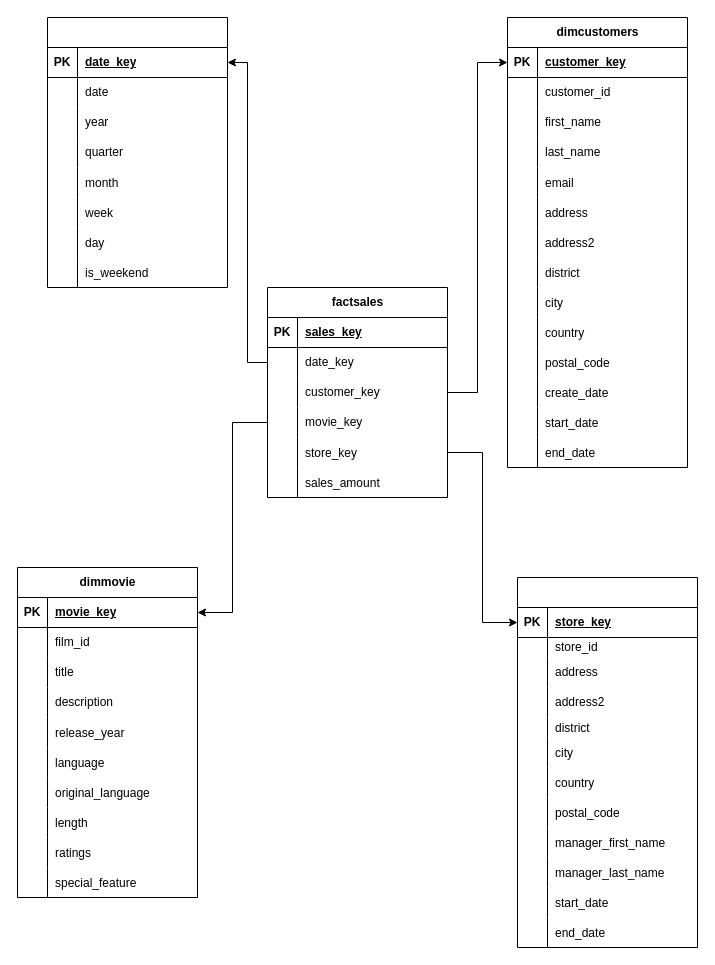
Some shapes in this 715 by 965 pixel diagram are drawn without their labels. Here are the shapes that lost their labels. From the top down, the box of each, then its label:
(46, 16, 228, 288): dimdate
(516, 576, 698, 948): dimstore
